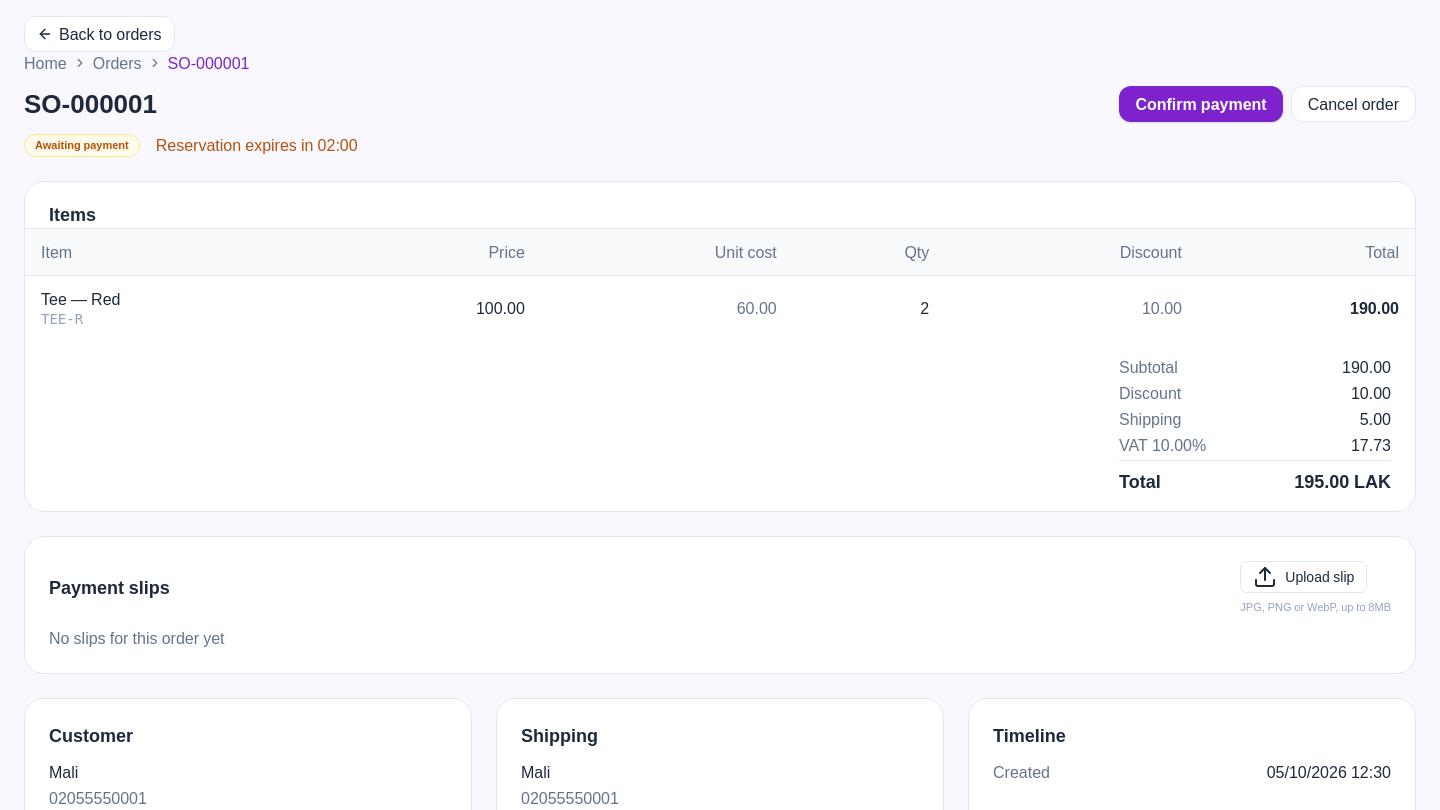
Scenario: OrderDetail: ປຸ່ມຂັ້ນຕໍ່ໄປ › ສຳເລັດ: ປະກາດຜົນ (role=status) ແລະ focus ຍ້າຍໄປ status region ເມື່ອປຸ່ມຫາຍ
The width and height of the screenshot is (1440, 810).
Click the button "Confirm payment". click: click(1201, 104)
box: [1119,86,1283,122]
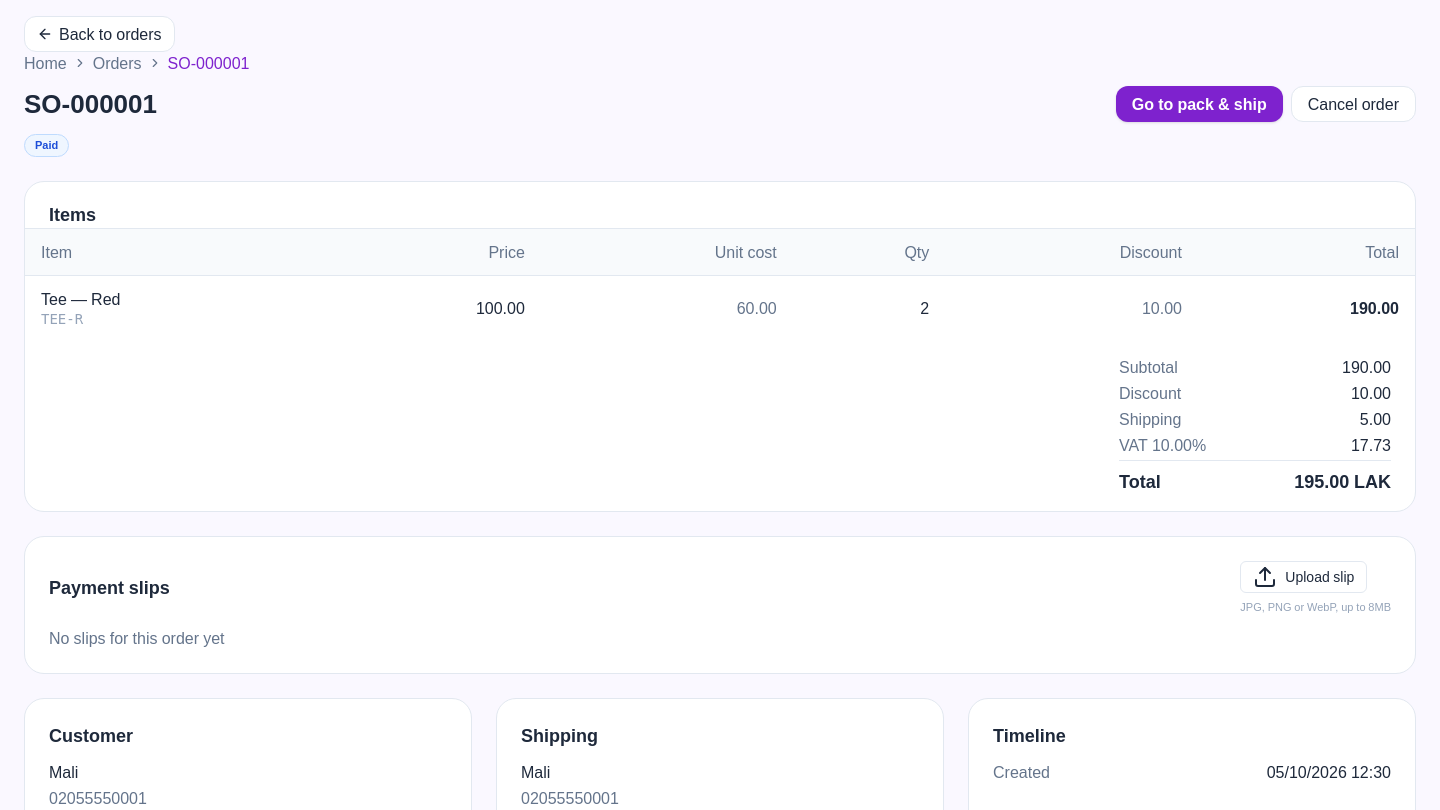
Result: the link "Go to pack & ship" is shown at [1116,86,1283,122]
